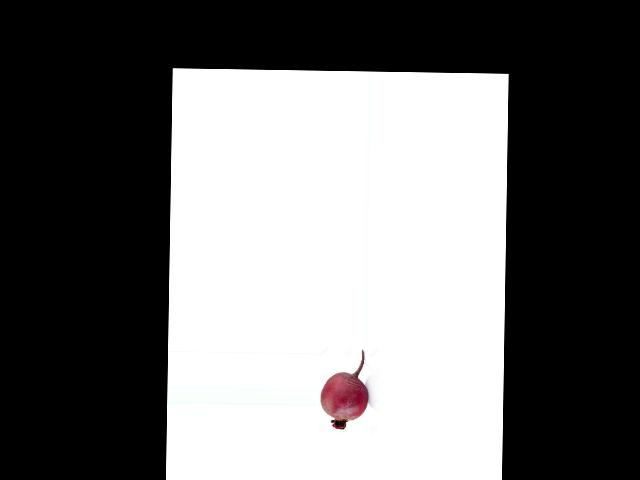beet: (320, 349, 369, 429)
